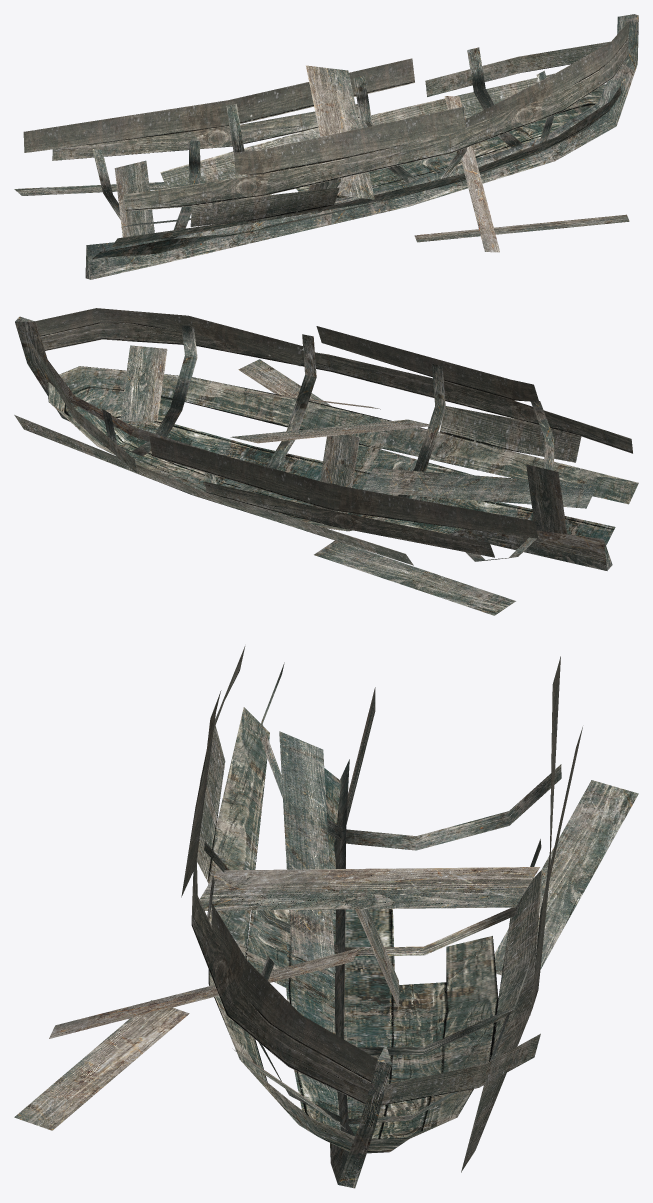
Rendered from Boat3_LOD2.fbx.
3 renders of one model, top to bottom at view 1: azimuth 30°, elevation 25°; view 2: azimuth 150°, elevation 25°; view 3: azimuth 270°, elevation 25°, orthographic. The views are drawn at different scales.
Visible parts, largest first — view 1: polySurface1106; view 2: polySurface1106; view 3: polySurface1106.
Part boxes in pixels (left/top/right/bottom): polySurface1106: left=14, top=14, right=638, bottom=279; polySurface1106: left=14, top=308, right=638, bottom=615; polySurface1106: left=14, top=646, right=638, bottom=1188.
Bounding box in the file's own units: 5.23 × 1.2 × 3.11.
